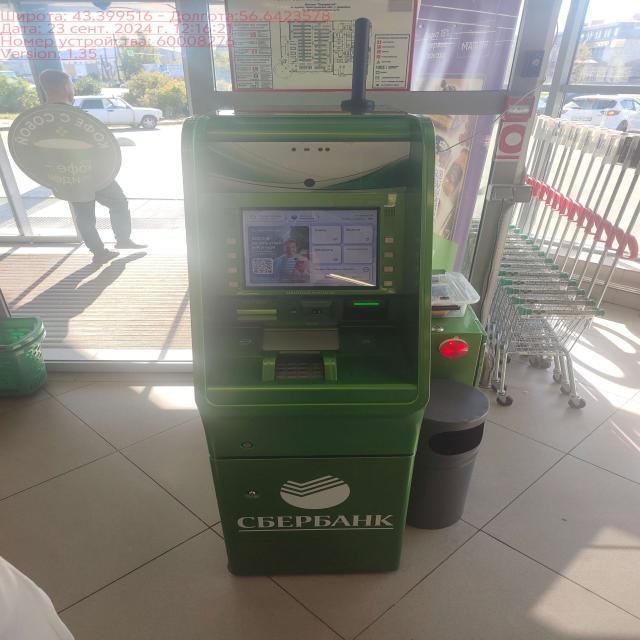bank: (178, 97, 441, 582)
